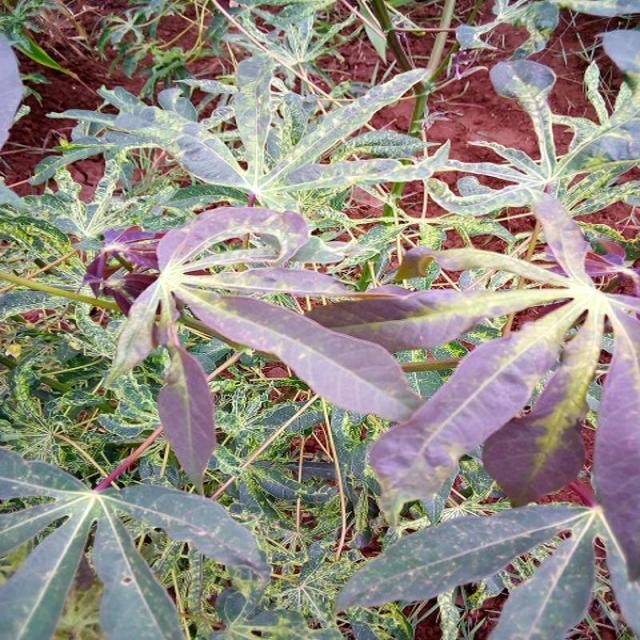cassava leaf: (1, 18, 638, 637), (0, 445, 271, 638)
